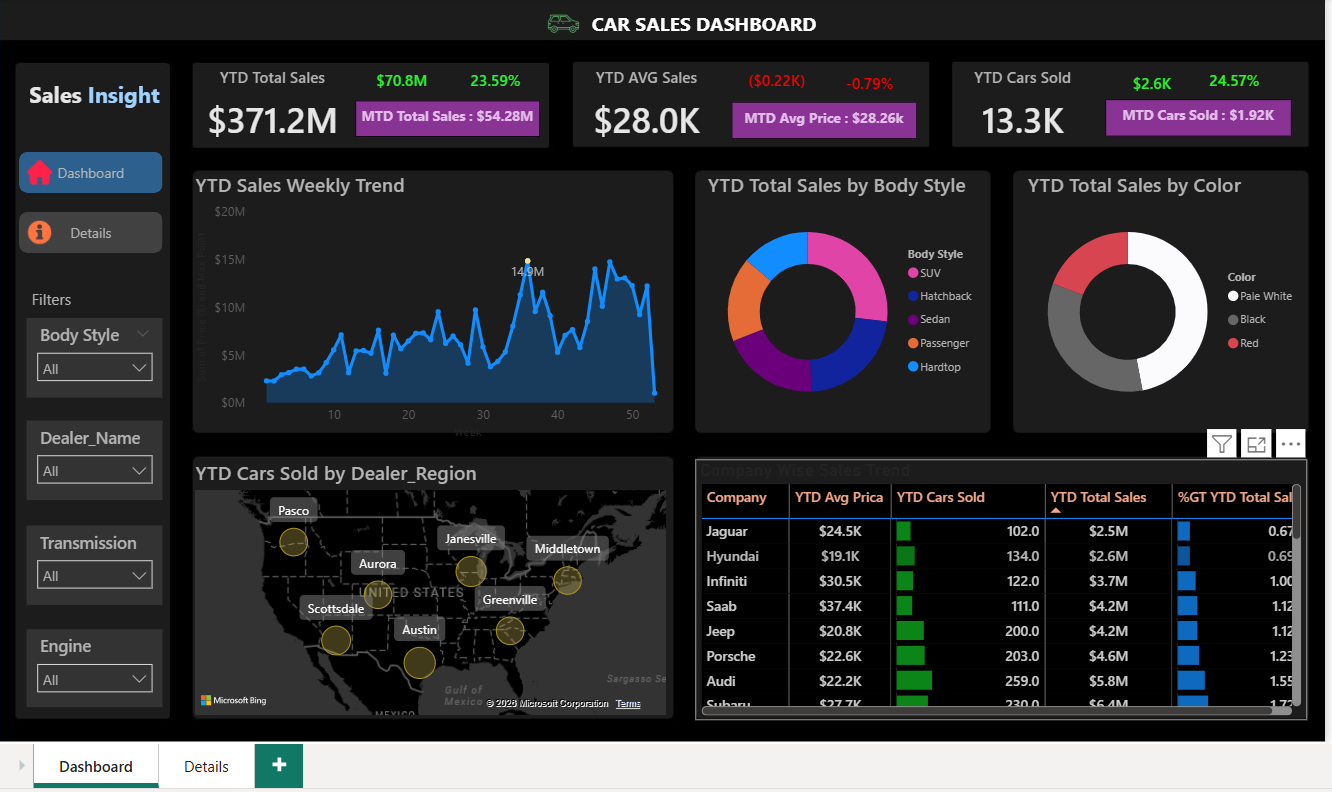

This screenshot's page, from the dashboard's own definition file:
{"tool":"powerbi","page":{"name":"Dashboard","canvas":[1280,720],"ordinal":0},"visuals":[{"type":"card","title":"YTD Total Sales","fields":{"Values":["car_data.YTD Total Sales"]},"box":[184.7,66.4,158.7,82.2],"z":0},{"type":"card","fields":{"Values":["car_data.Sales Difference"]},"box":[343.8,56.7,90.5,50.7],"z":1000},{"type":"card","fields":{"Values":["car_data.YOY Sales Growth"]},"box":[434.3,56.7,90.5,50.7],"z":2000},{"type":"card","fields":{"Values":["car_data.MTD KPI"]},"box":[343.8,98.9,178.6,35],"z":3000},{"type":"textbox","box":[567,7.2,249.6,34.6],"z":4000},{"type":"image","box":[522.4,0,44.6,49.5],"z":5000},{"type":"card","title":"YTD AVG  Sales","fields":{"Values":["car_data.YTD Avg Prica"]},"box":[545.3,66.4,159.3,82],"z":6000},{"type":"card","fields":{"Values":["car_data.Avg Price diff"]},"box":[705.8,56.7,90.5,50.7],"z":7000},{"type":"card","fields":{"Values":["car_data.YOY Avg Price Growth"]},"box":[795,59.2,90.9,50.5],"z":8000},{"type":"card","fields":{"Values":["car_data.MTD Avg KPI"]},"box":[707,99.6,178.9,36.1],"z":9000},{"type":"card","title":"YTD Cars Sold","fields":{"Values":["car_data.YTD Cars Sold"]},"box":[908.4,66.4,159.3,82],"z":10000},{"type":"card","fields":{"Values":["car_data.Cars sold Diff"]},"box":[1067.7,59.1,90.5,50.7],"z":11000},{"type":"card","fields":{"Values":["car_data.YOY Cars sold Groth"]},"box":[1147.3,56.7,90.5,50.7],"z":12000},{"type":"card","fields":{"Values":["car_data.MTD Cars KPI"]},"box":[1067.7,97.7,179.8,36.2],"z":13000},{"type":"areaChart","title":"YTD Sales Weekly Trend","fields":{"Category":["Calender Table.Week"],"Y":["Sum(car_data.Price ($))","car_data.Max Point"]},"box":[184.6,167.7,477.8,263],"z":14000},{"type":"donutChart","title":"YTD Total Sales by Body Style","fields":{"Category":["car_data.Body Style"],"Y":["car_data.YTD Total Sales","car_data.YTD Total Sales"]},"box":[679.2,167.7,273.9,246.1],"z":15000},{"type":"donutChart","title":"YTD Total Sales by Color","fields":{"Category":["car_data.Color"],"Y":["car_data.YTD Total Sales","car_data.YTD Total Sales"]},"box":[988.1,167.7,273.9,246.1],"z":16000},{"type":"map","fields":{"Size":["car_data.YTD Cars Sold"],"Category":["car_data.Dealer_Region"]},"box":[184.6,445.2,464.5,252.1],"z":17000},{"type":"tableEx","title":"Company Wise Sales Trend","fields":{"Values":["car_data.Company","car_data.YTD Avg Prica","car_data.YTD Cars Sold","car_data.YTD Total Sales","Divide(car_data.YTD Total Sales, ScopedEval(car_data.YTD Total Sales, []))"]},"box":[672,445.2,589.9,252.1],"z":18000},{"type":"textbox","box":[18.8,73.6,145.7,44.7],"z":19000},{"type":"slicer","fields":{"Values":["car_data.Body Style"]},"box":[26,308.8,131.3,76.5],"z":20000},{"type":"slicer","fields":{"Values":["car_data.Dealer_Name"]},"box":[26,408.3,131.3,76.5],"z":21000},{"type":"slicer","fields":{"Values":["car_data.Transmission"]},"box":[26,509.3,131.3,76.5],"z":22000},{"type":"slicer","fields":{"Values":["car_data.Engine"]},"box":[26,608.8,131.3,75],"z":23000},{"type":"textbox","box":[26.5,275.1,138.7,33.8],"z":24000},{"type":"actionButton","box":[19.3,148.4,138.7,39.8],"z":27001},{"type":"actionButton","box":[19.3,206.3,138.7,39.8],"z":27002}]}

Visuals, with their boxes on the page's 1280x720 design canvas (x1, y1, x2, y2). These are canvas units, not pixel positions in the 1332x792 screenshot, which may show the page scaled, cropped or inside an application window:
"YTD Total Sales" card: BBox(185, 66, 343, 149)
card - car_data.Sales Difference: BBox(344, 57, 434, 107)
card - car_data.YOY Sales Growth: BBox(434, 57, 525, 107)
card - car_data.MTD KPI: BBox(344, 99, 522, 134)
textbox: BBox(567, 7, 817, 42)
image: BBox(522, 0, 567, 50)
"YTD AVG  Sales" card: BBox(545, 66, 705, 148)
card - car_data.Avg Price diff: BBox(706, 57, 796, 107)
card - car_data.YOY Avg Price Growth: BBox(795, 59, 886, 110)
card - car_data.MTD Avg KPI: BBox(707, 100, 886, 136)
"YTD Cars Sold" card: BBox(908, 66, 1068, 148)
card - car_data.Cars sold Diff: BBox(1068, 59, 1158, 110)
card - car_data.YOY Cars sold Groth: BBox(1147, 57, 1238, 107)
card - car_data.MTD Cars KPI: BBox(1068, 98, 1248, 134)
"YTD Sales Weekly Trend" areaChart: BBox(185, 168, 662, 431)
"YTD Total Sales by Body Style" donutChart: BBox(679, 168, 953, 414)
"YTD Total Sales by Color" donutChart: BBox(988, 168, 1262, 414)
map - car_data.YTD Cars Sold x car_data.Dealer_Region: BBox(185, 445, 649, 697)
"Company Wise Sales Trend" tableEx: BBox(672, 445, 1262, 697)
textbox: BBox(19, 74, 164, 118)
slicer - car_data.Body Style: BBox(26, 309, 157, 385)
slicer - car_data.Dealer_Name: BBox(26, 408, 157, 485)
slicer - car_data.Transmission: BBox(26, 509, 157, 586)
slicer - car_data.Engine: BBox(26, 609, 157, 684)
textbox: BBox(26, 275, 165, 309)
actionButton: BBox(19, 148, 158, 188)
actionButton: BBox(19, 206, 158, 246)
